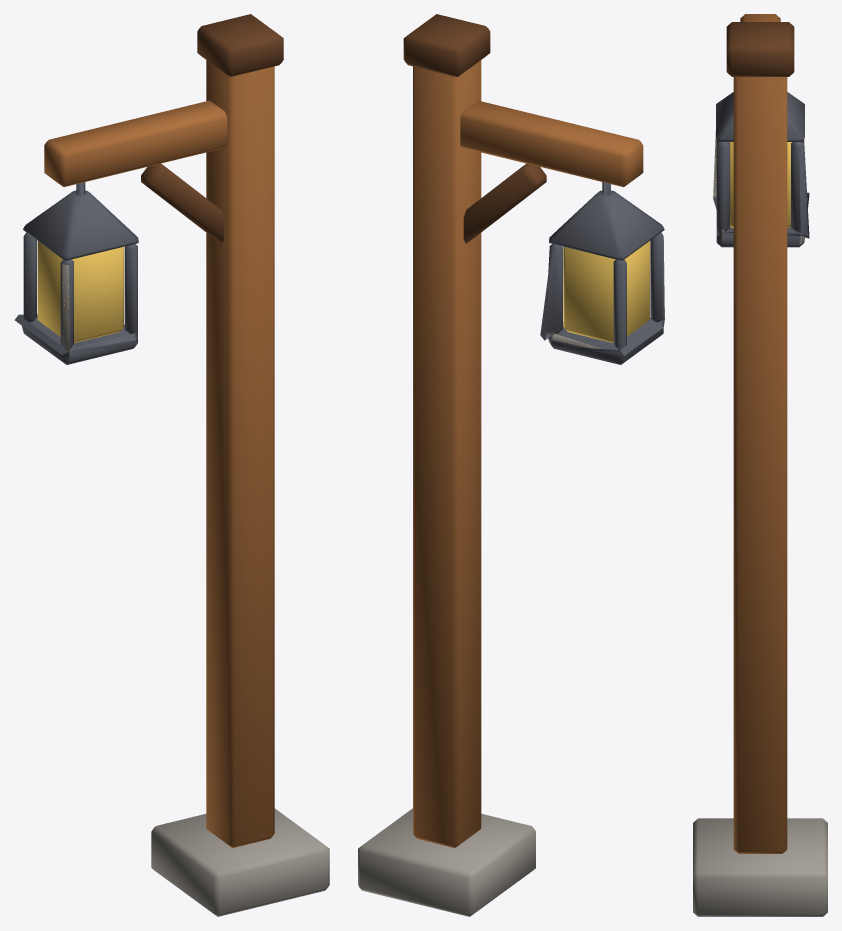
File: P_MedTorchPole.fbx
3 renders of one model, left to right at view 1: azimuth 30°, elevation 25°; view 2: azimuth 150°, elevation 25°; view 3: azimuth 270°, elevation 25°, orthographic.
Parts seen in each view (by area): view 1: M_TorchPole; view 2: M_TorchPole; view 3: M_TorchPole.
Boxes of the visible parts, x1,y1,x2,y2 form: M_TorchPole: [14, 14, 329, 916]; M_TorchPole: [358, 14, 664, 916]; M_TorchPole: [693, 14, 827, 916].
Size of the model in its own units: 0.895 by 2.8 by 0.4.
Materials: 1 (1 with a texture image).
